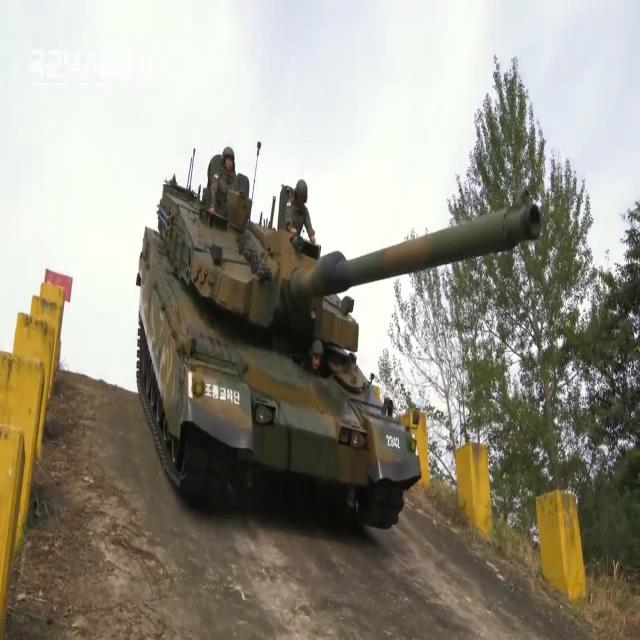korea tank: (136, 138, 542, 530)
